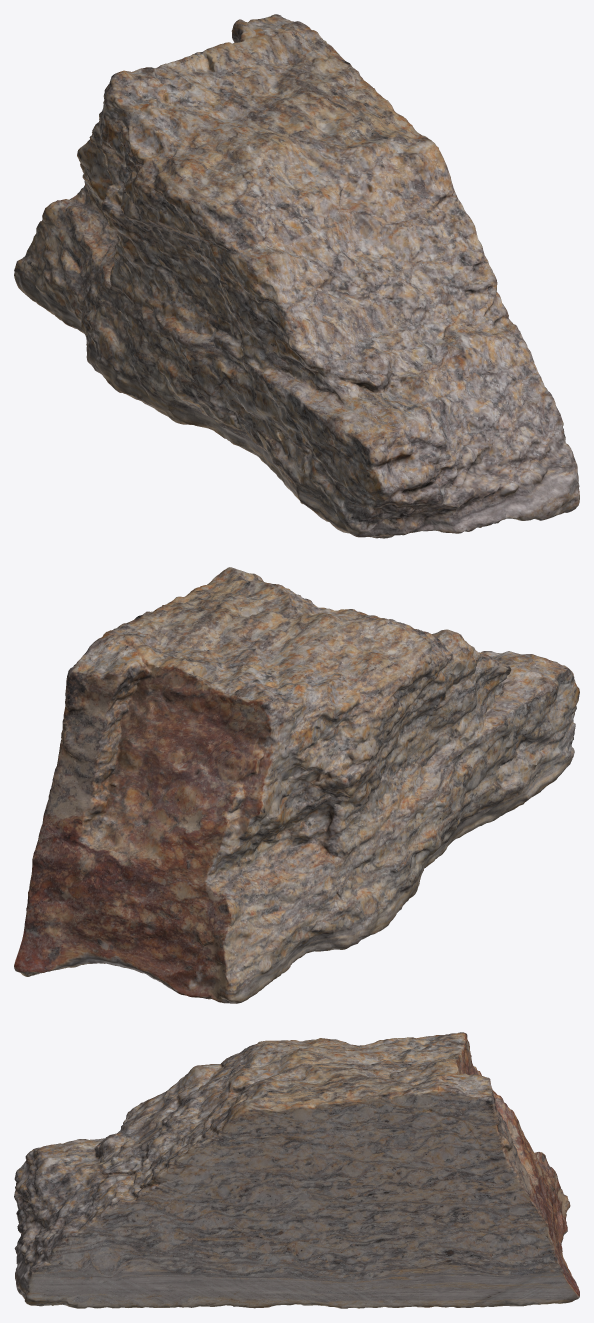
The model's file is Main model.glb.
The picture shows the model from 3 angles, top to bottom: view 1: azimuth 30°, elevation 25°; view 2: azimuth 150°, elevation 25°; view 3: azimuth 270°, elevation 25°; orthographic projection. The views are drawn at different scales.
Parts seen in each view (by area): view 1: Granite; view 2: Granite; view 3: Granite.
Part boxes in pixels (bbox=[...]): Granite: bbox=[14, 14, 579, 538]; Granite: bbox=[14, 567, 579, 1003]; Granite: bbox=[14, 1032, 579, 1308].
Size of the model in its own units: 0.0521 by 0.0597 by 0.1363.
Materials: 1 (1 with a texture image).
